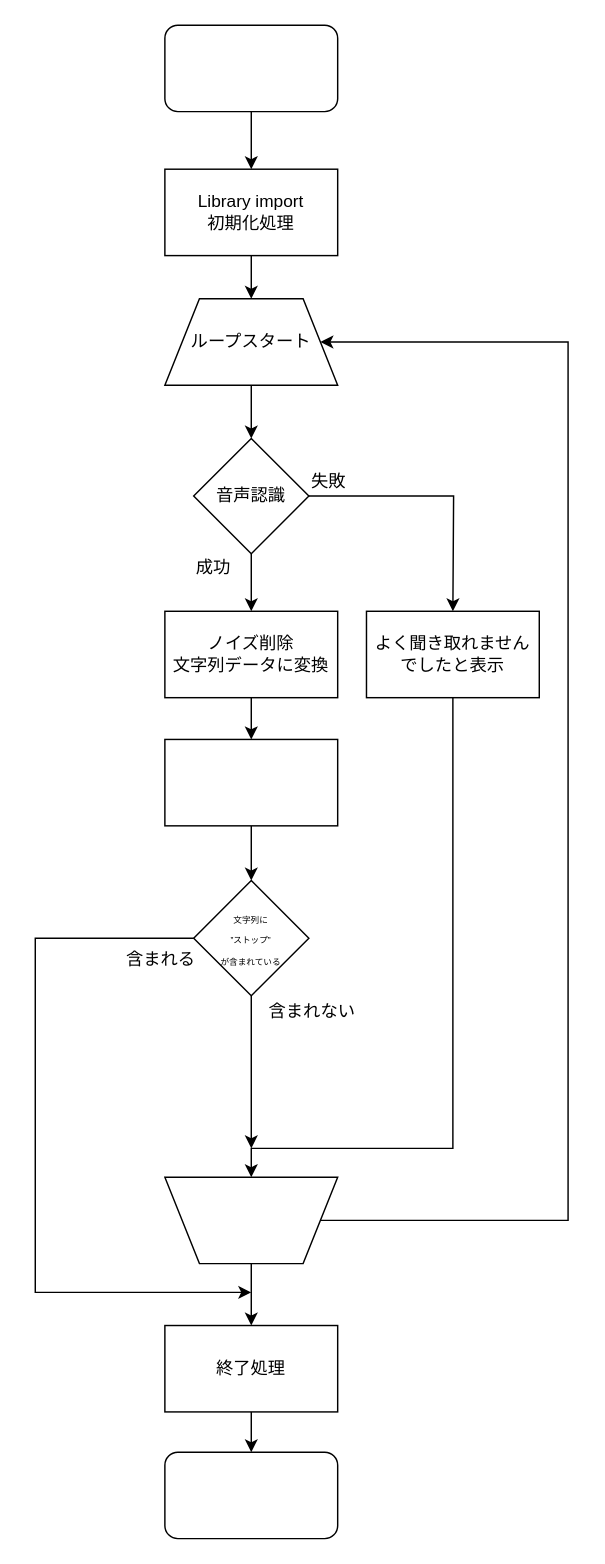
Image size: 605x1564. Some labels were removed from this diagram. The shapes that lost their labels are listed below. From the top down, each one's centre as x and y in pixels, then its label:
At pixel 250 68: "Start".
At pixel 250 782: "文字列の形態素分析".
At pixel 250 1220: "ループエンド".
At pixel 250 1495: "End".
